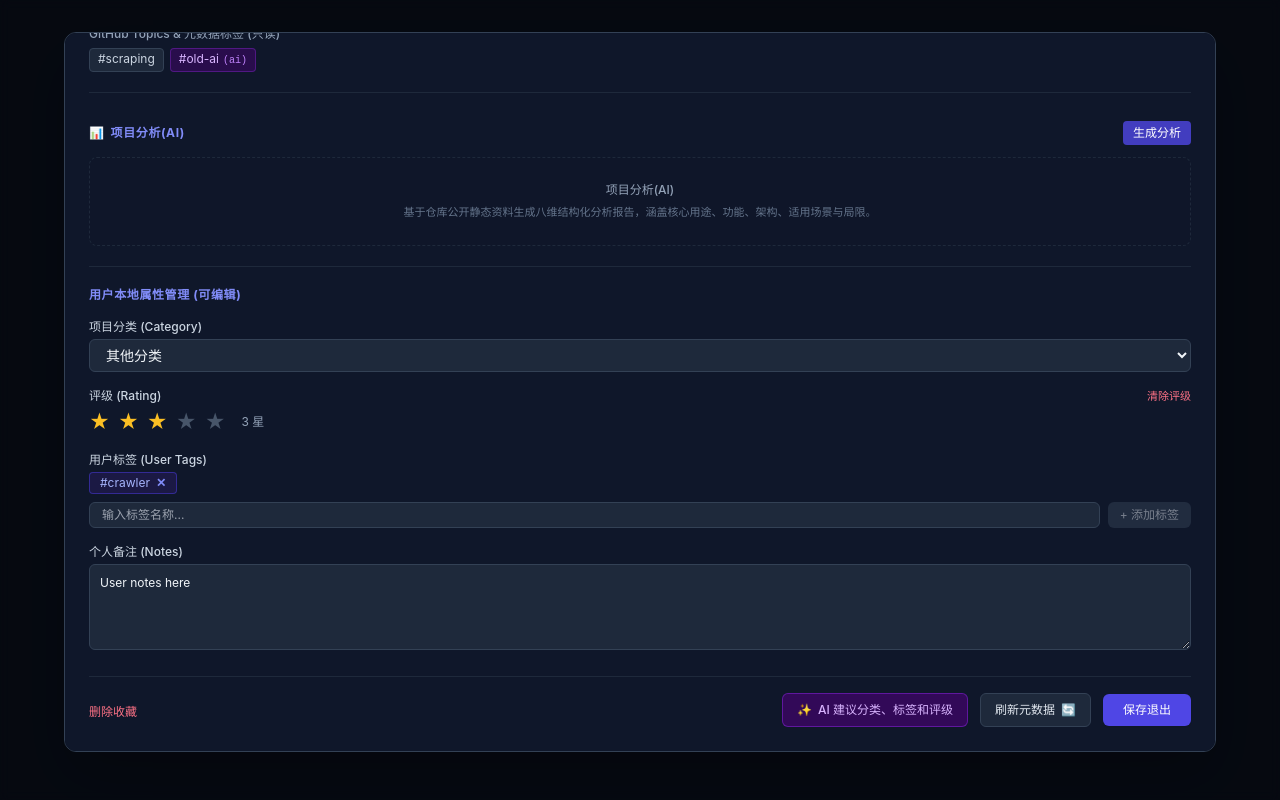
Test: FavoriteDetailModal Phase 6-C Acceptance Tests › P6C-FE-18: Suggestion state resets when favorite changes
The width and height of the screenshot is (1280, 800).
(page scrolled)
Click the button with test id "ai-suggest-btn": (875, 710) [782, 693, 968, 727]
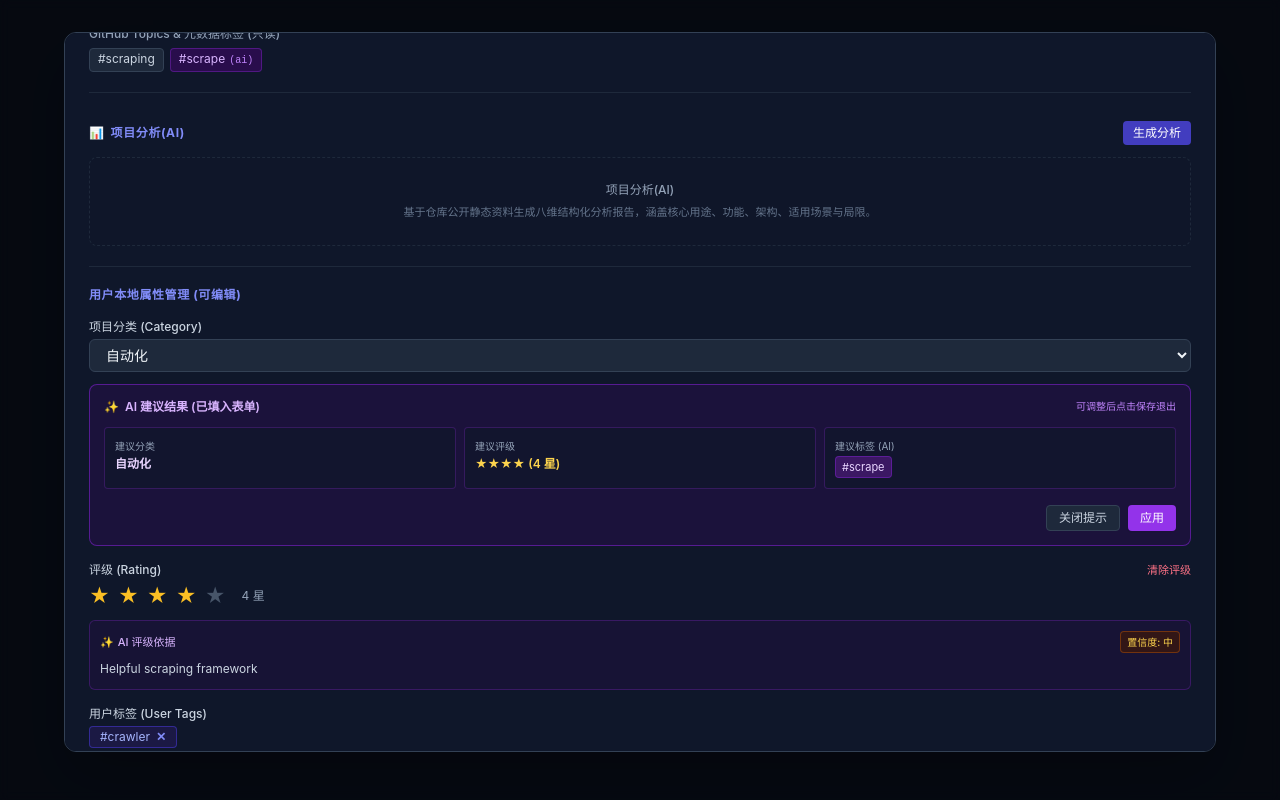
Now the element with test id "ai-suggestion-box" is shown, box [89, 384, 1191, 546]
